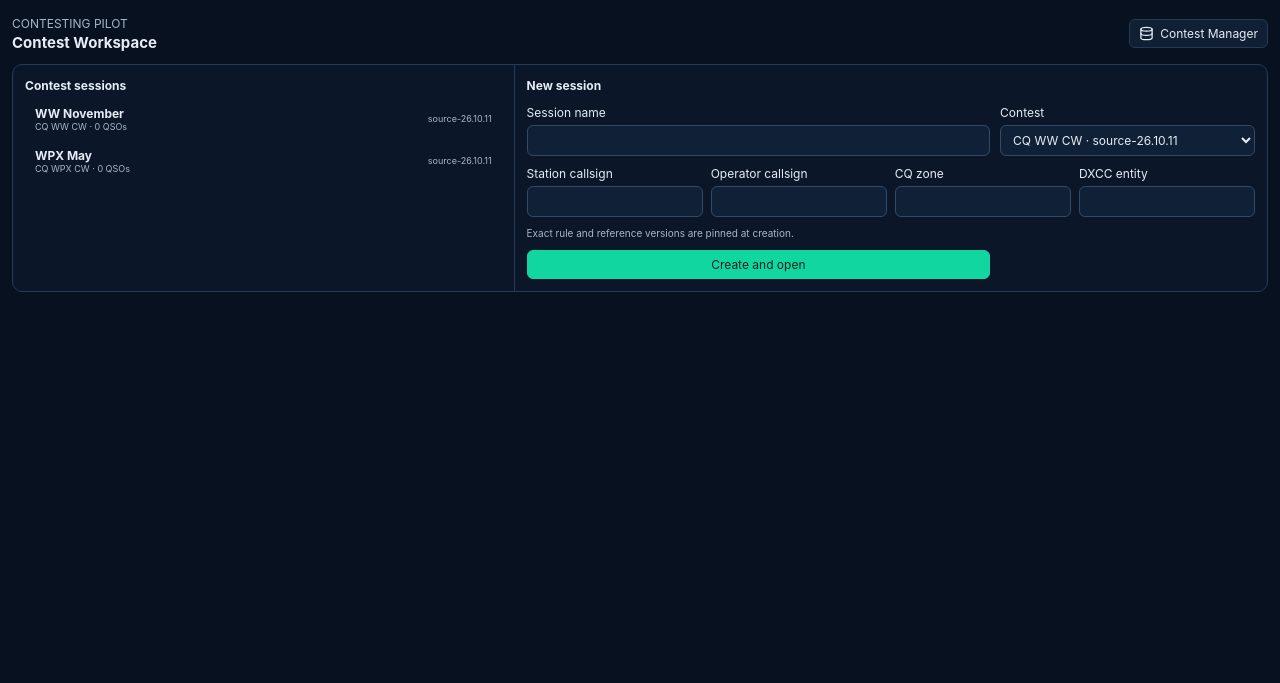
Test case: blocks session context changes until a delayed commit settles
Expected: the text "WW November" is shown, [35,106,127,120]
Click the button "WW November CQ WW CW · 0 QSOs source-26.10.11": (79, 113) [25,100,502,137]
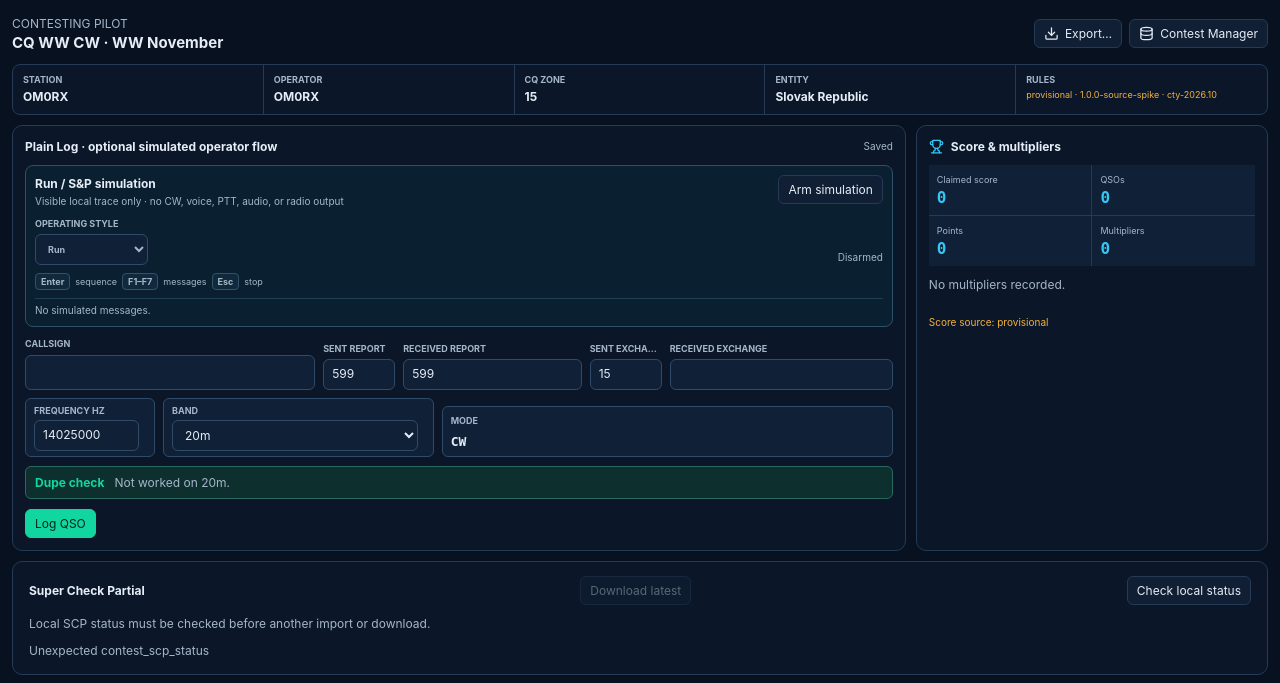
Expected: the form named "CW contest entry" is shown, [12,125,906,551]
In the field named "Contest callsign": (170, 372) [25,354,315,390], type "K1ABC"
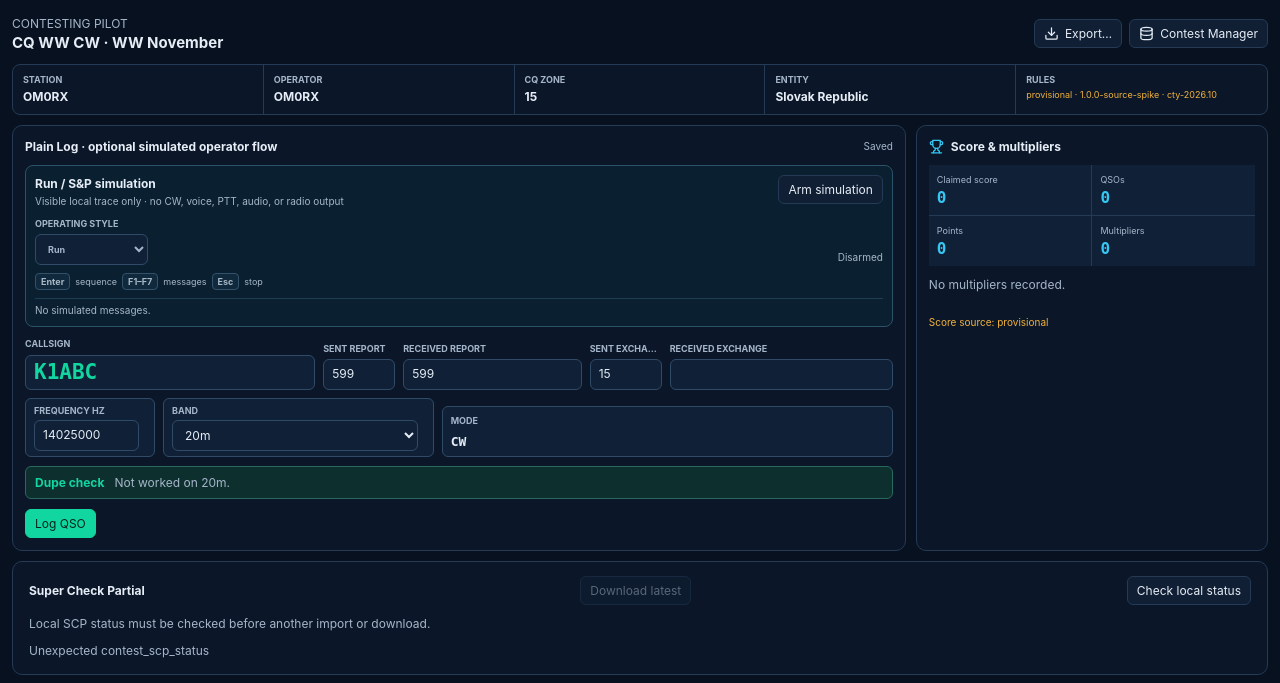
Submit the form named "CW contest entry", box [12,125,906,551]
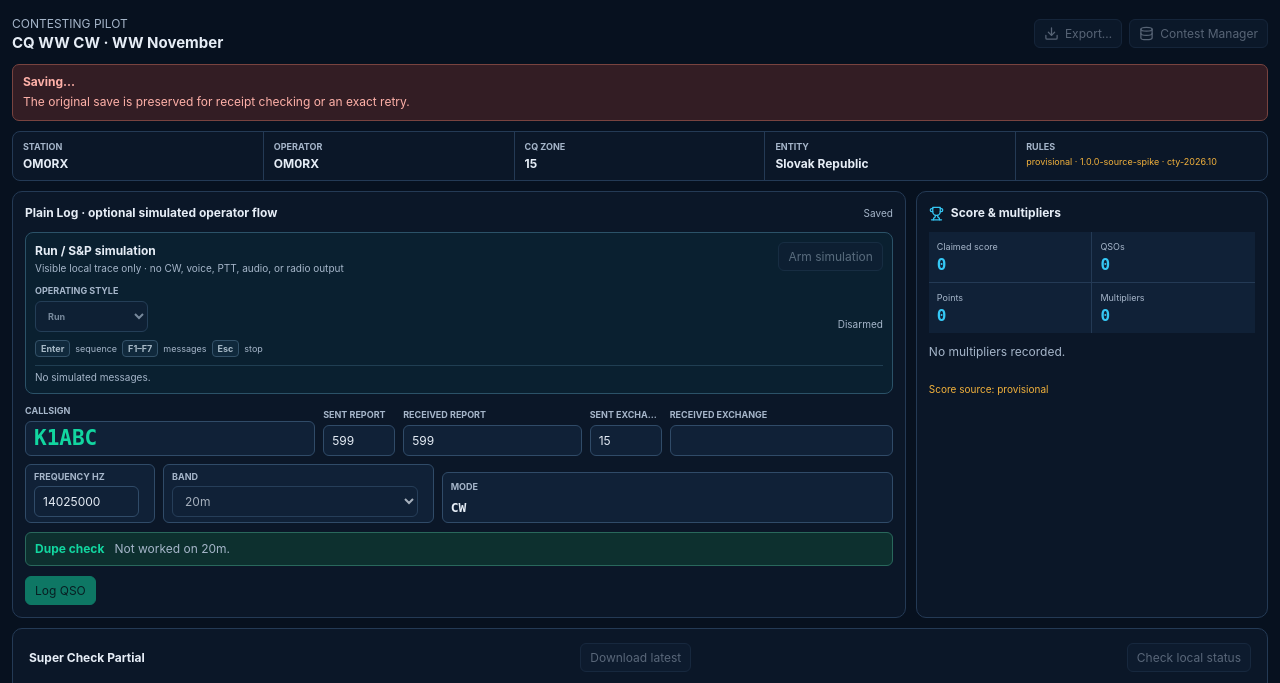
Expected: the button "Contest Manager" is disabled
Click the button "Contest Manager": (1199, 33) [1129,19,1268,48]
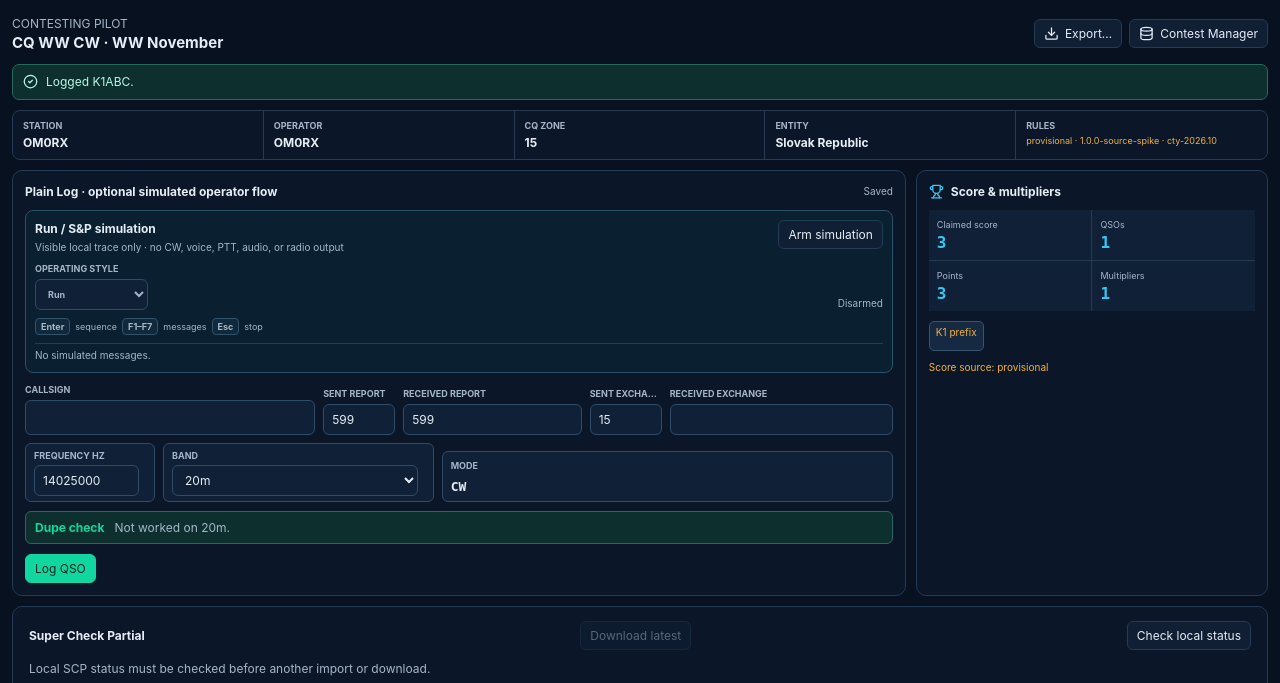
Expected: the heading "CQ WW CW · WW November" is shown, [12,32,223,54]
Expected: the text "Logged K1ABC." is shown, [12,64,1268,100]
